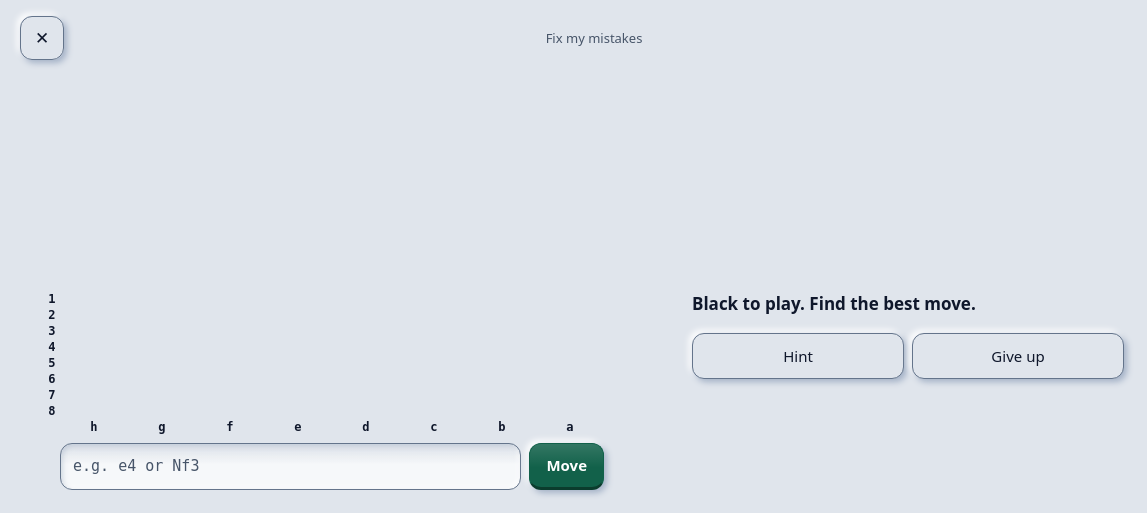
it: PuzzlePlayer › a miss on a position with no motif is not offered an explanation
Type "h1g1" into the field named "Type a move" at (291, 466), box x1=60 y1=442 x2=522 y2=490
Then press Enter
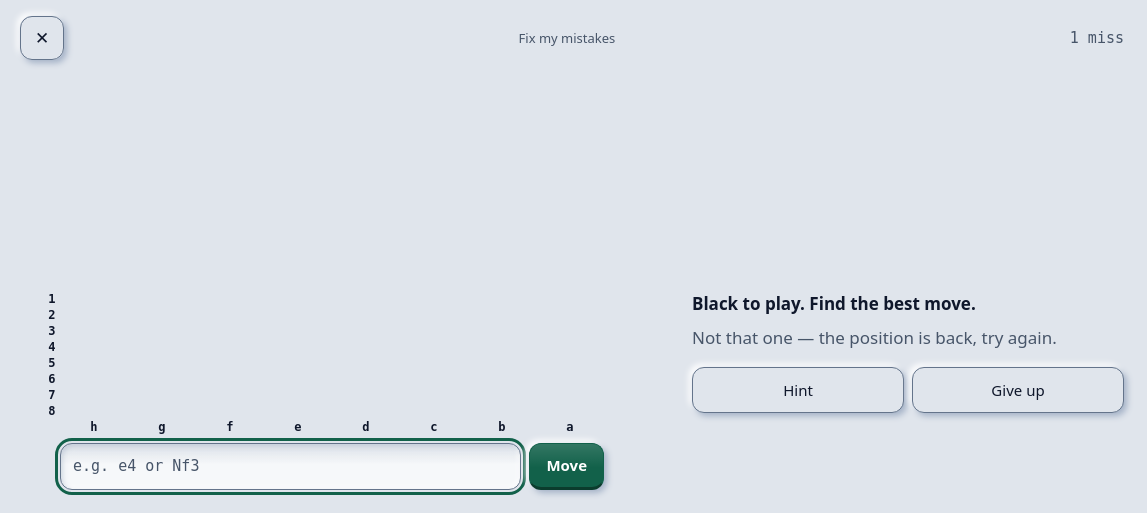
Type "h1h2" into the field named "Type a move" at (291, 466), box x1=60 y1=442 x2=522 y2=490
Then press Enter
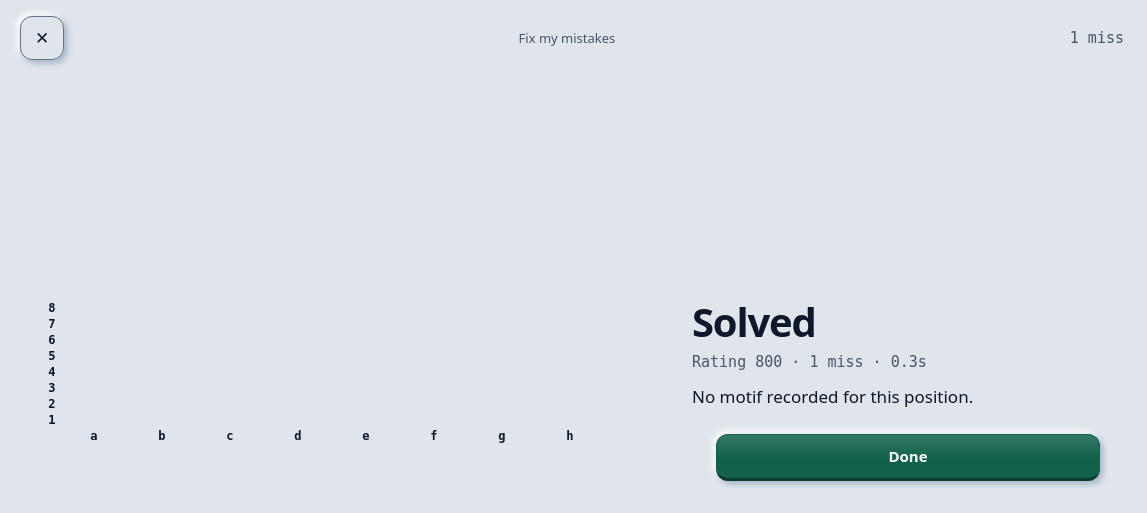
Now the heading "Solved" is shown, box x1=692 y1=294 x2=816 y2=348
